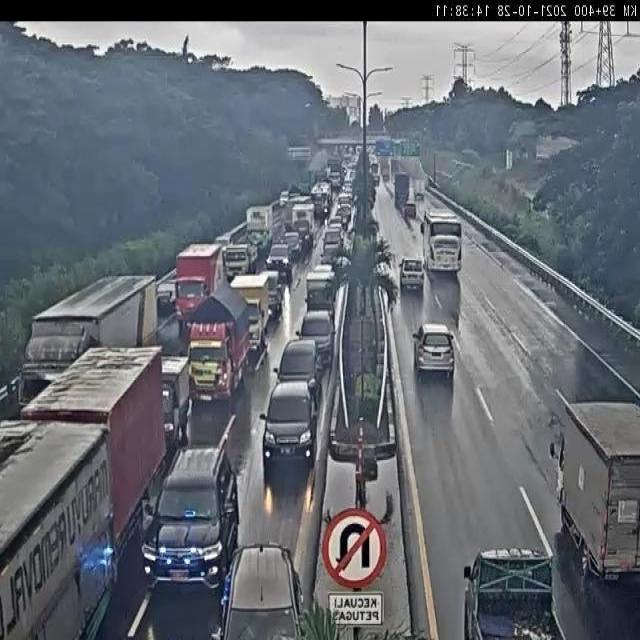Bus: (420, 210, 463, 275)
Car: (139, 444, 244, 596), (215, 541, 306, 640), (260, 379, 318, 470), (274, 337, 322, 406), (412, 322, 456, 383), (298, 308, 334, 369), (261, 269, 284, 320), (266, 243, 294, 284), (399, 257, 424, 290), (320, 240, 343, 268), (283, 230, 303, 262), (322, 226, 342, 243), (314, 260, 334, 276), (404, 200, 416, 220)
Truck: (19, 342, 165, 559), (0, 422, 114, 640), (19, 268, 160, 409), (553, 399, 639, 594), (461, 545, 563, 640), (186, 276, 250, 407), (173, 240, 223, 326), (152, 350, 194, 444), (229, 270, 269, 358), (244, 203, 276, 255), (303, 270, 336, 318), (223, 240, 259, 280), (290, 202, 314, 246), (311, 182, 331, 218), (393, 172, 411, 203), (414, 178, 426, 200)
